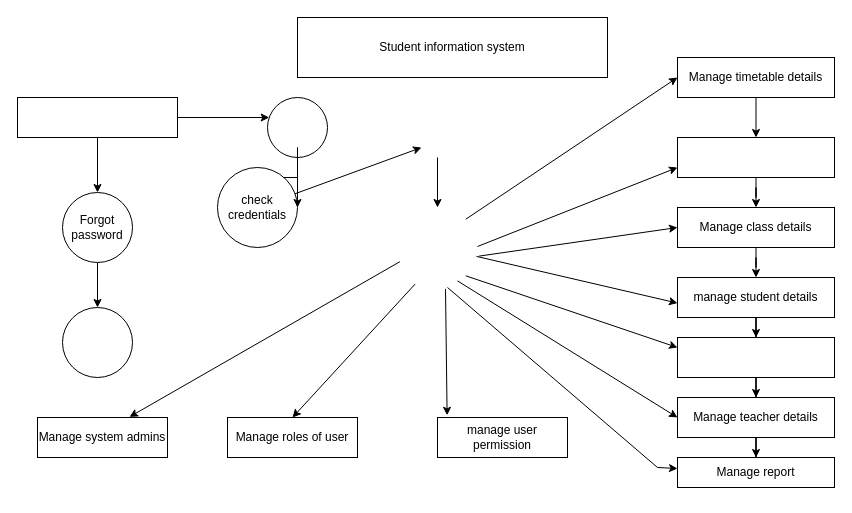
Image size: 852x513. Some labels were removed from this diagram. The centre of each missing label's shape, as x and y in pixels:
"Admin" goes at [97,117].
"login to system" goes at [297,127].
"Manage attendance details" goes at [755,157].
"Manage fees details" goes at [755,357].
"Send email to user" goes at [97,342].
